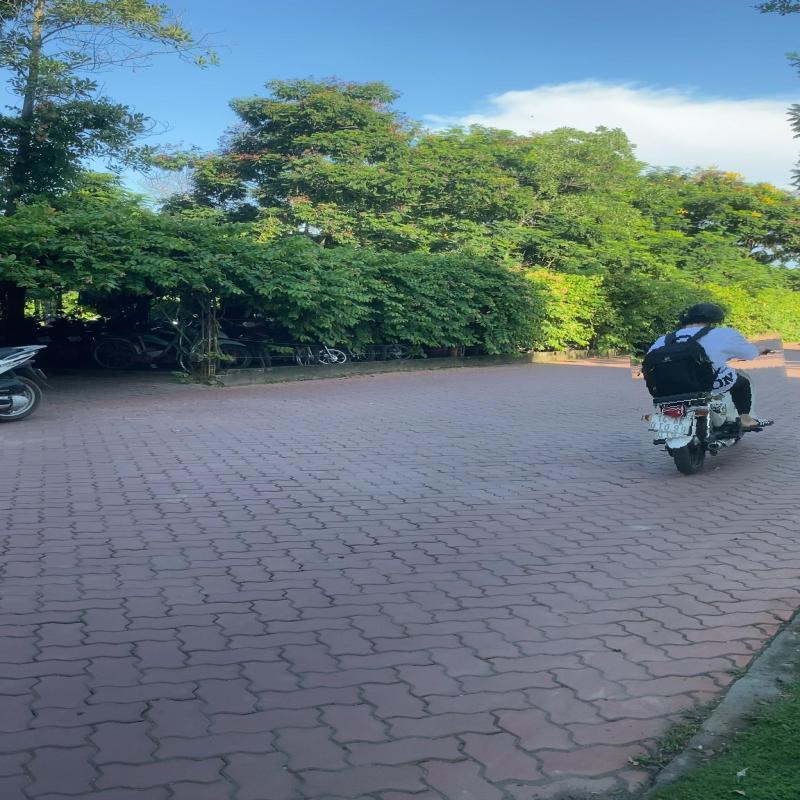helmet: (685, 300, 732, 324)
licenseplate: (648, 414, 694, 436)
motorcyclist: (628, 293, 794, 478)
